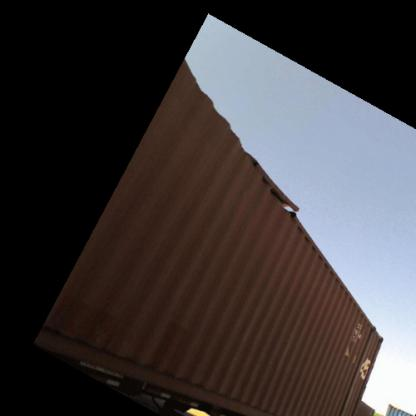Damage: (234, 134, 305, 219), (65, 293, 125, 348), (344, 310, 375, 415)
